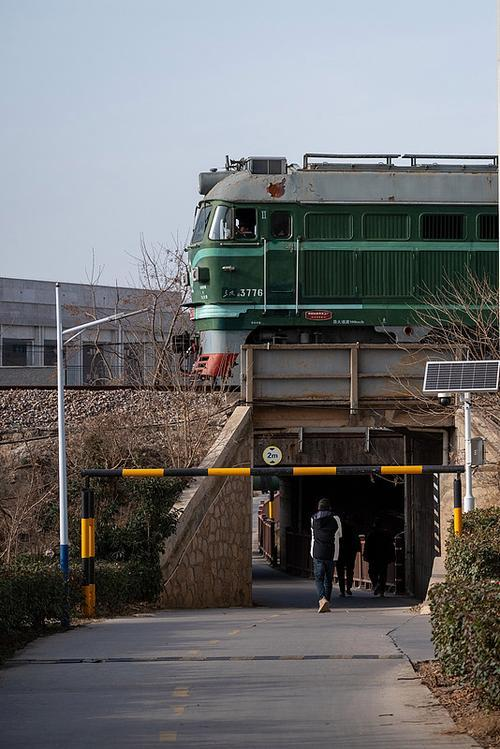roadside_plant: (0, 392, 217, 630), (430, 520, 500, 701)
tunnel_entrance: (245, 465, 417, 603)
warning_sign: (258, 439, 288, 468)
